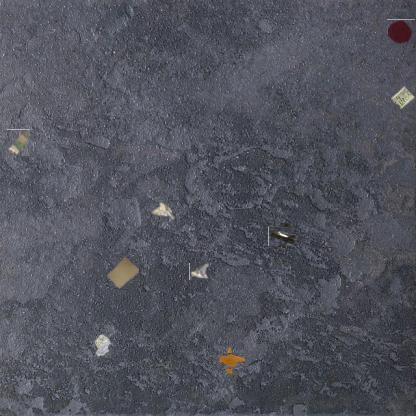dirty: (105, 254, 139, 290), (389, 83, 415, 109), (271, 224, 297, 249), (6, 129, 30, 156), (151, 200, 177, 222), (92, 332, 112, 358), (189, 262, 210, 280)
liquid: (388, 19, 416, 44), (220, 350, 242, 372)
